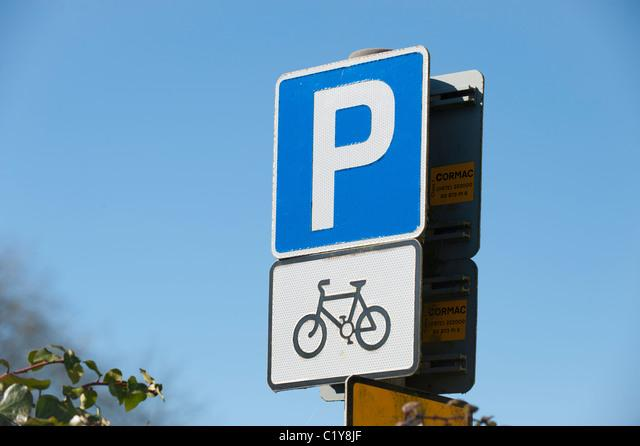Parking Lot Cycle: (244, 56, 444, 395)
